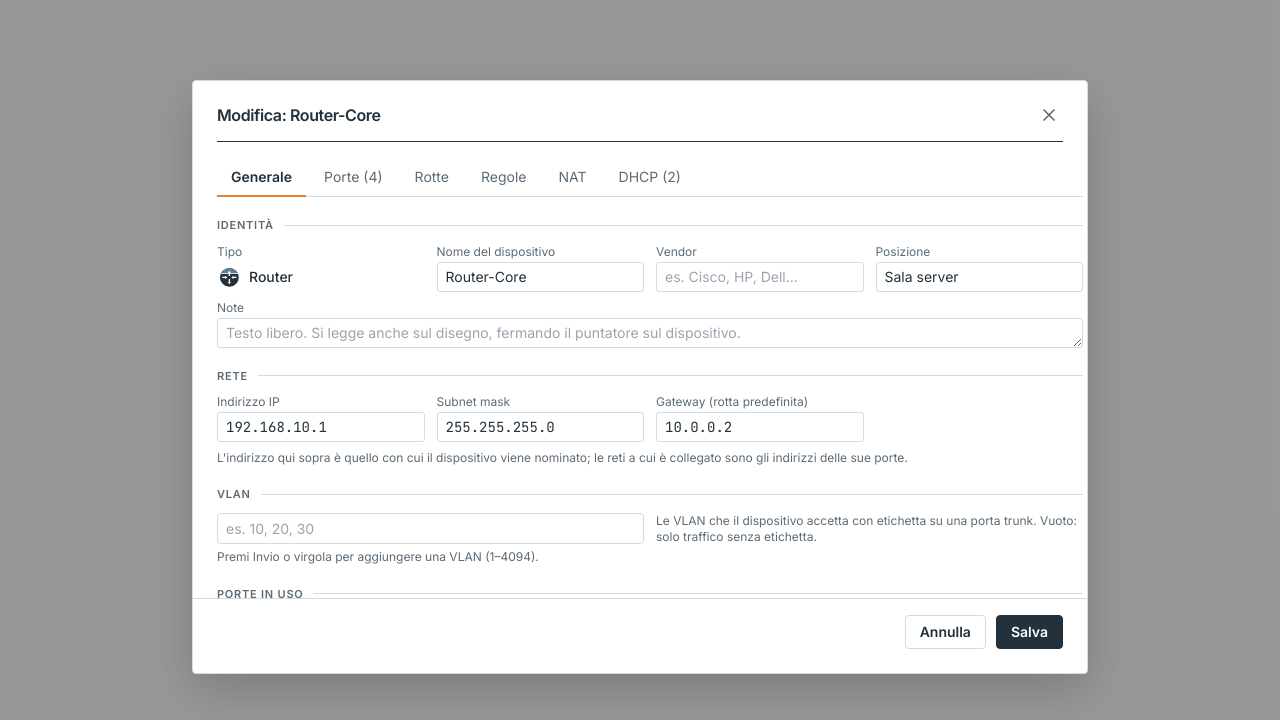
Test: the guide — DHCP › the port of the router has the tick and the two fields it names, and the router the tab
Click the button "Porte (4)" at (353, 178), box [310, 158, 397, 197]
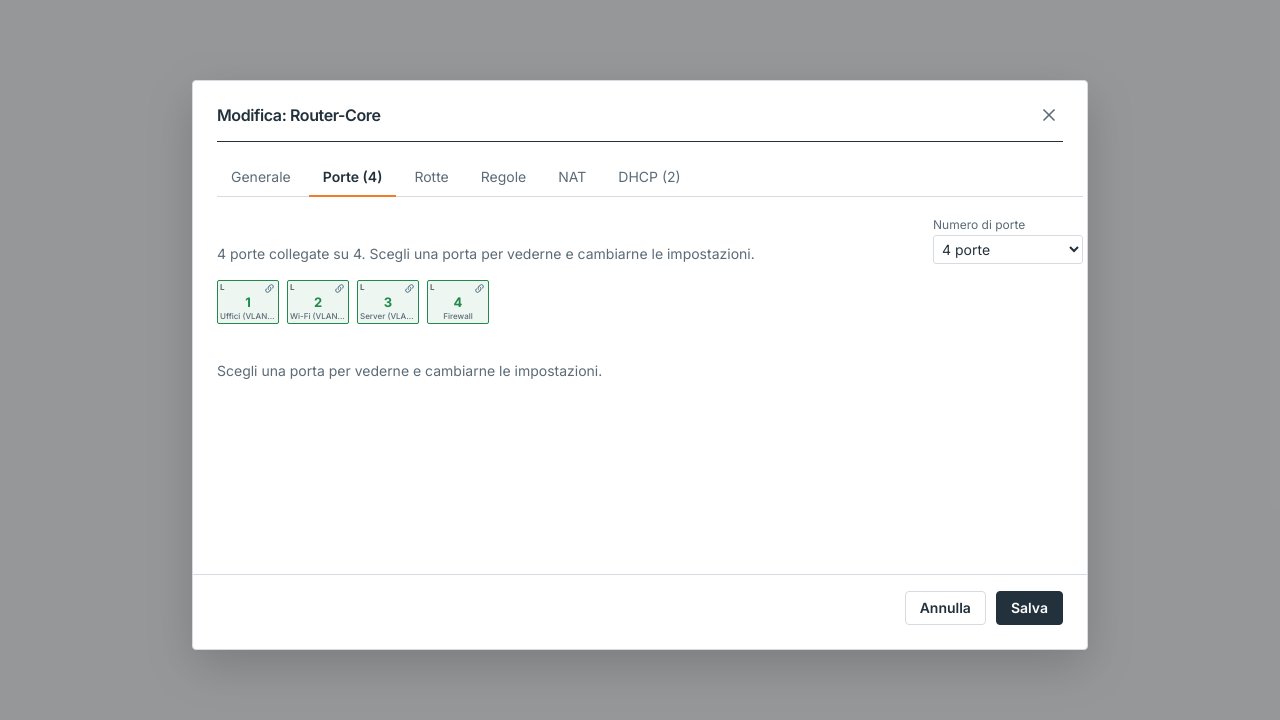
Click the text "2" at (318, 302), box [314, 296, 322, 308]
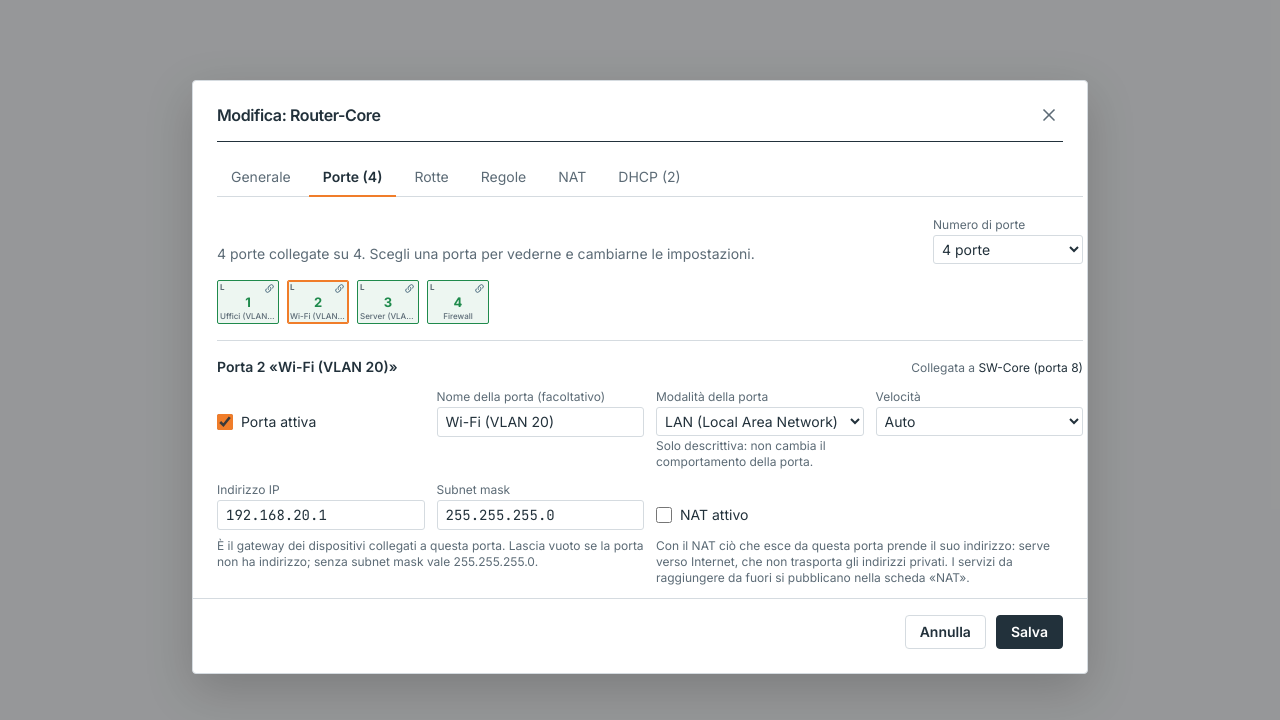
the tab has the tick next to the port, and the two fields under the names the step gives them
Click the button "DHCP (2)" at (650, 178), box [604, 158, 695, 197]
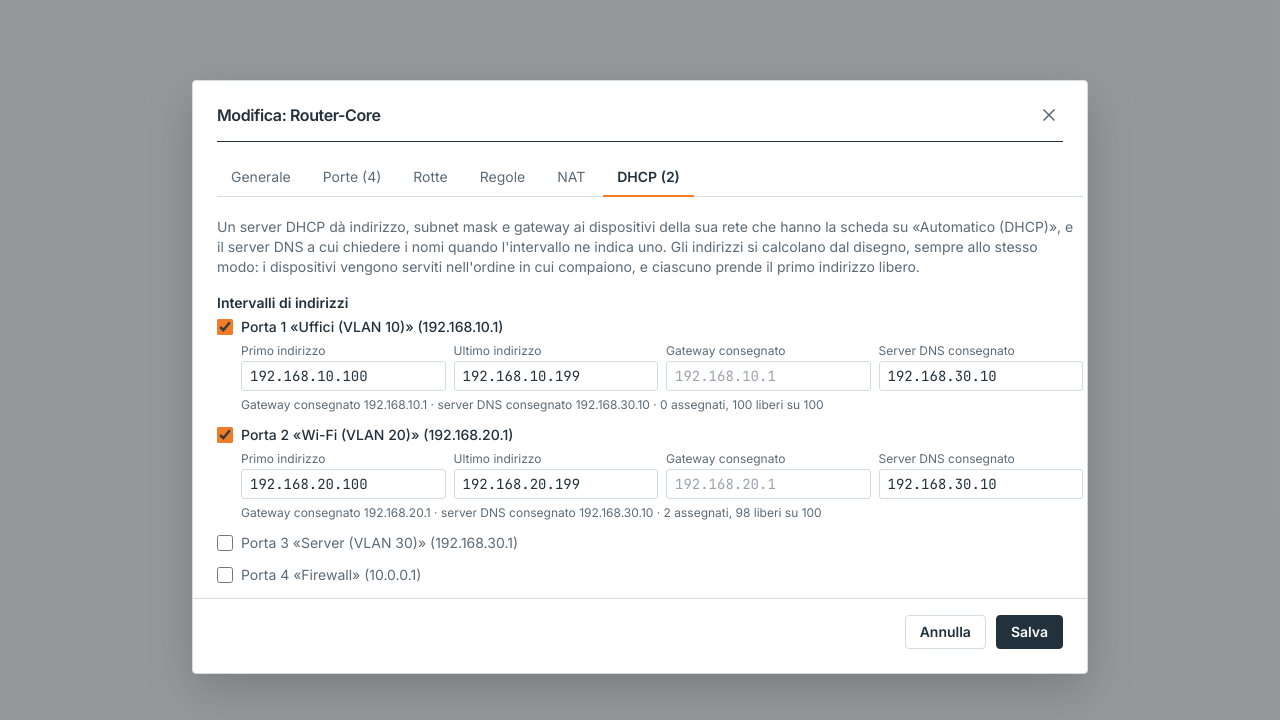
Expected: the checkbox named "Server DHCP sulla porta 2" is checked, [217, 427, 233, 443]
Expected: the element "Intervalli di indirizzi" shows "Primo indirizzo", [241, 343, 325, 358]
Expected: the element "Intervalli di indirizzi" shows "Ultimo indirizzo", [454, 343, 542, 358]
